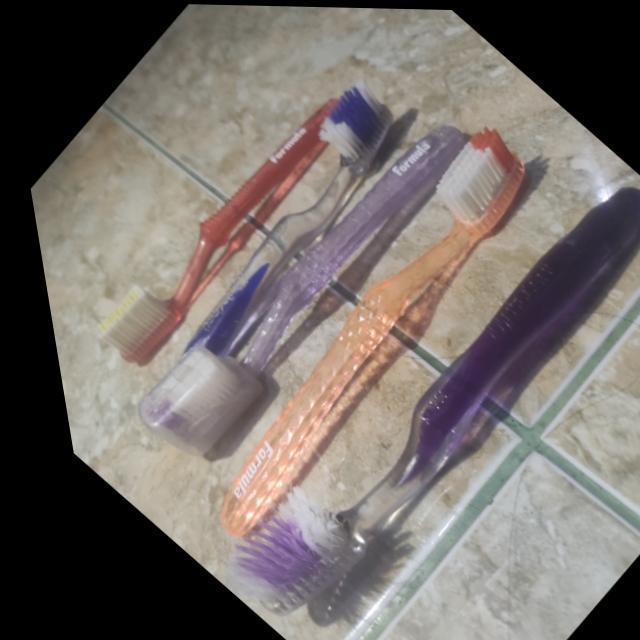toothbrush: (132, 116, 640, 640), (98, 95, 614, 560), (56, 54, 536, 486), (10, 27, 412, 389), (43, 63, 444, 424)
